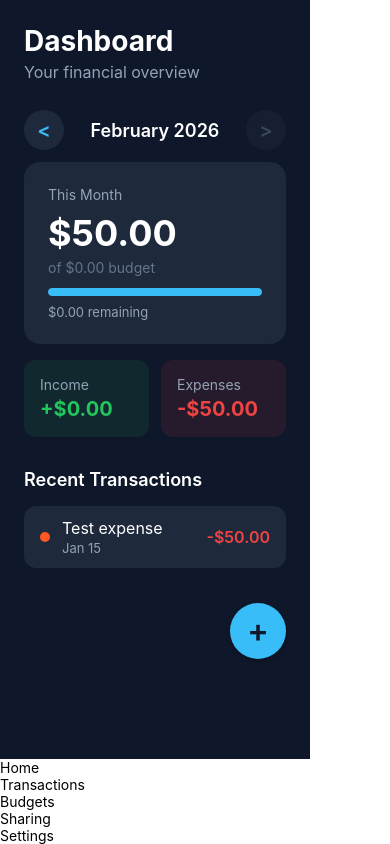
MainTabNavigator › navigates to sharing tab
Click the text "Sharing" at (25, 818), box [0,810,51,827]
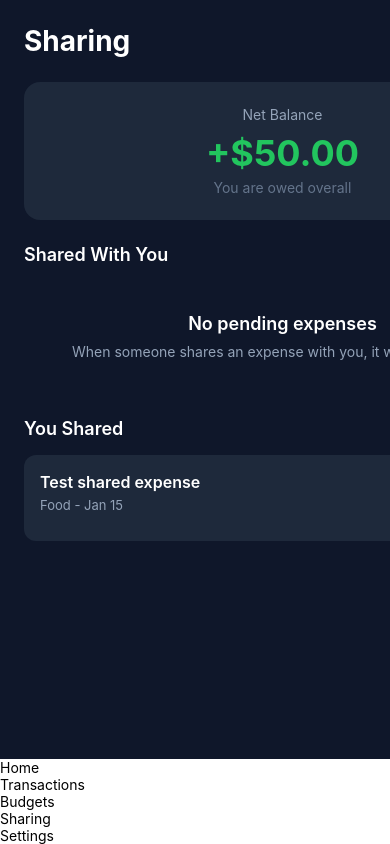
Expected: the text "Net Balance" is shown, [242,106,322,123]
